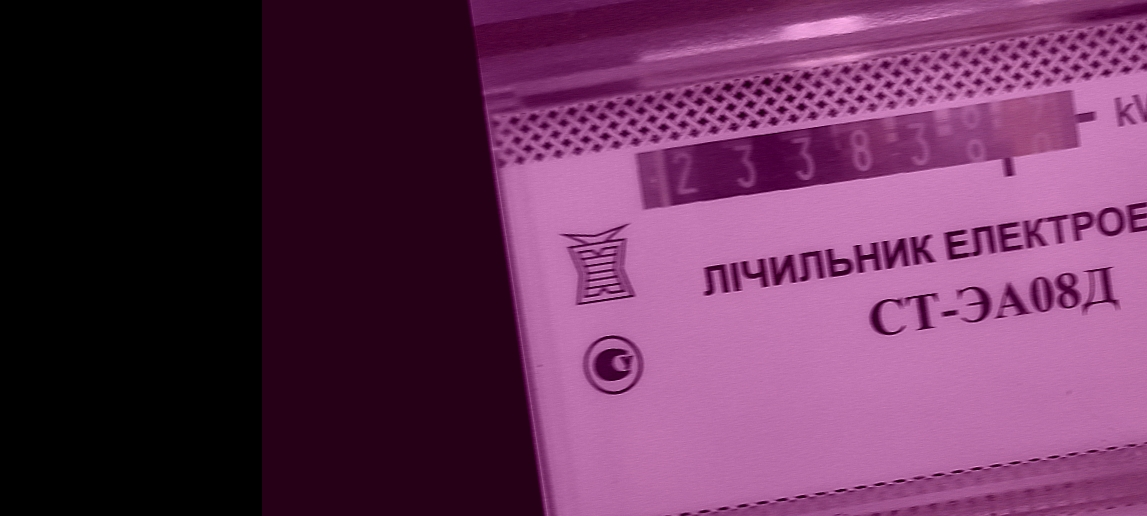0: (1028, 125, 1057, 154)
2: (668, 145, 702, 197)
3: (728, 138, 762, 191), (903, 115, 935, 167), (789, 131, 820, 184)
8: (846, 123, 877, 172), (957, 101, 988, 131)
9: (961, 131, 991, 164), (1023, 91, 1051, 122)
screen: (622, 72, 1102, 233)
